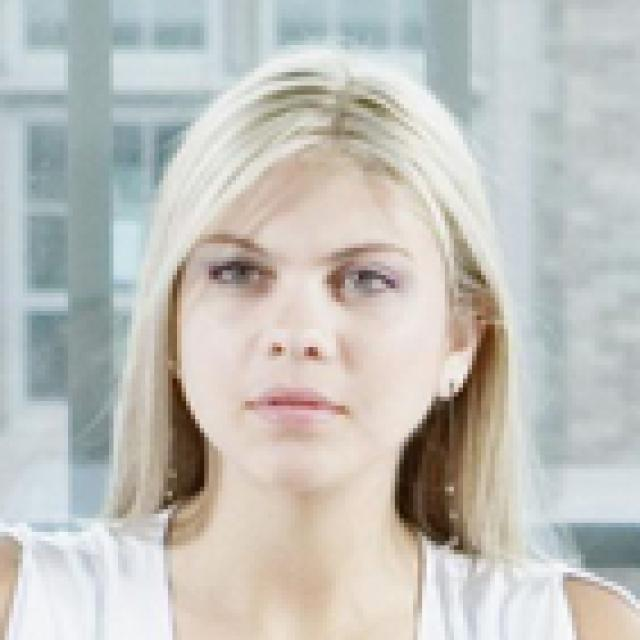Attentive: (168, 162, 433, 490)
